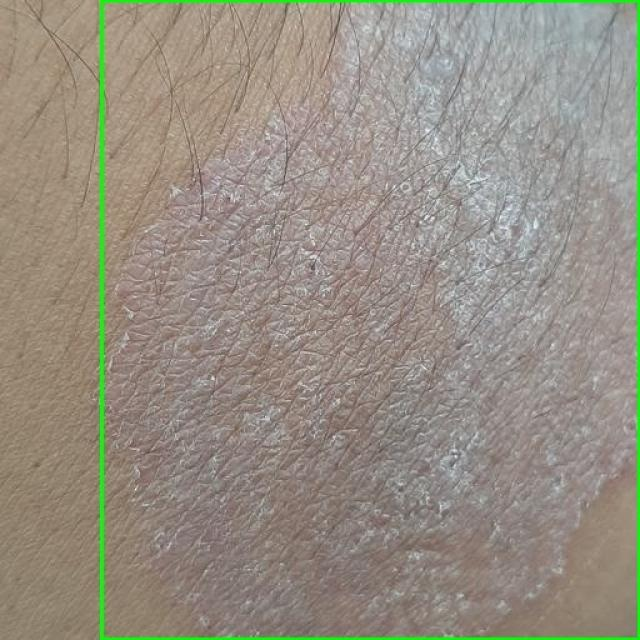Tinea Corporis: (101, 0, 639, 639)
